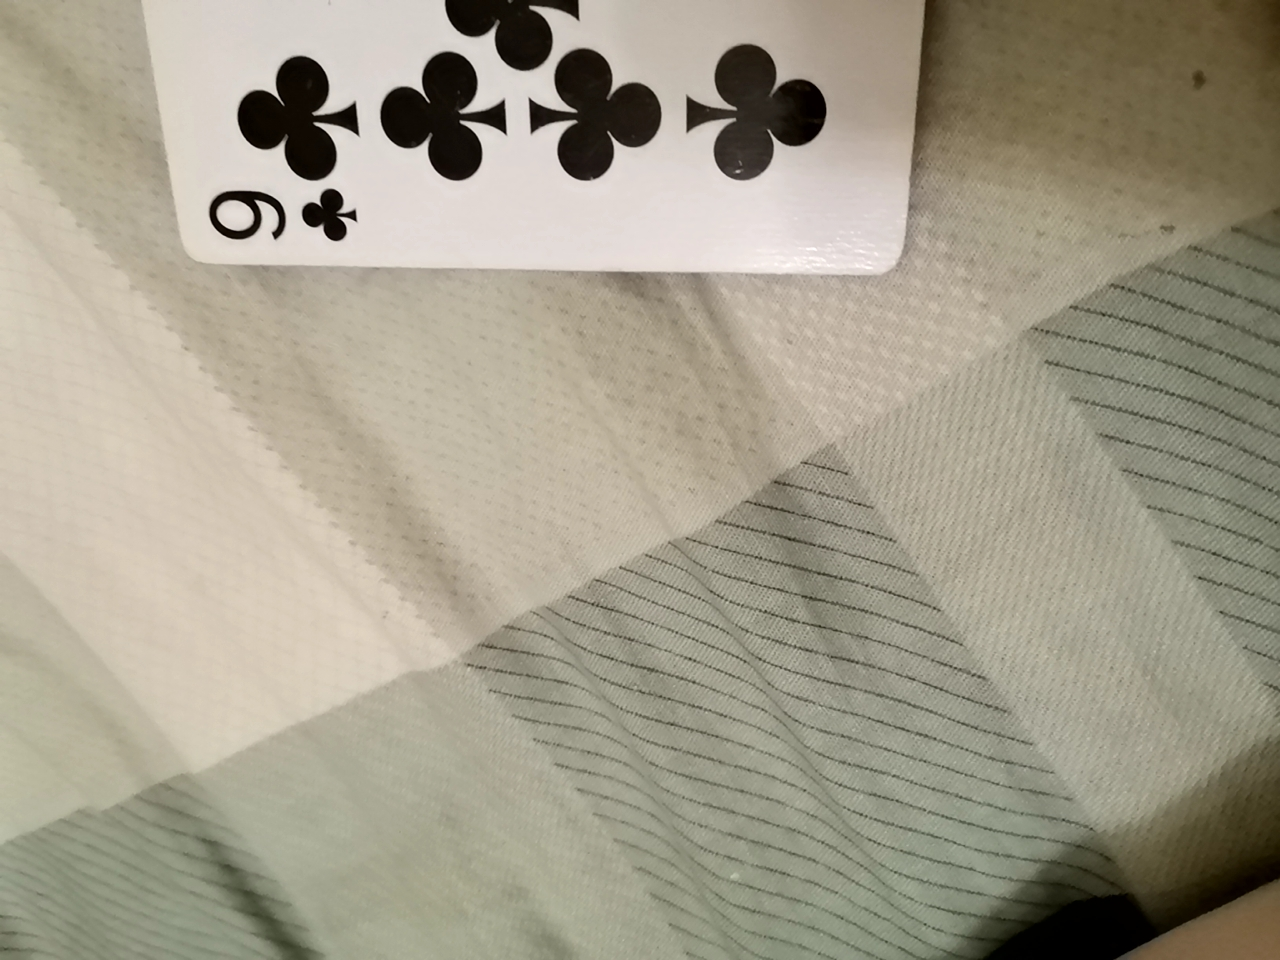mh 9: (127, 0, 927, 267)
